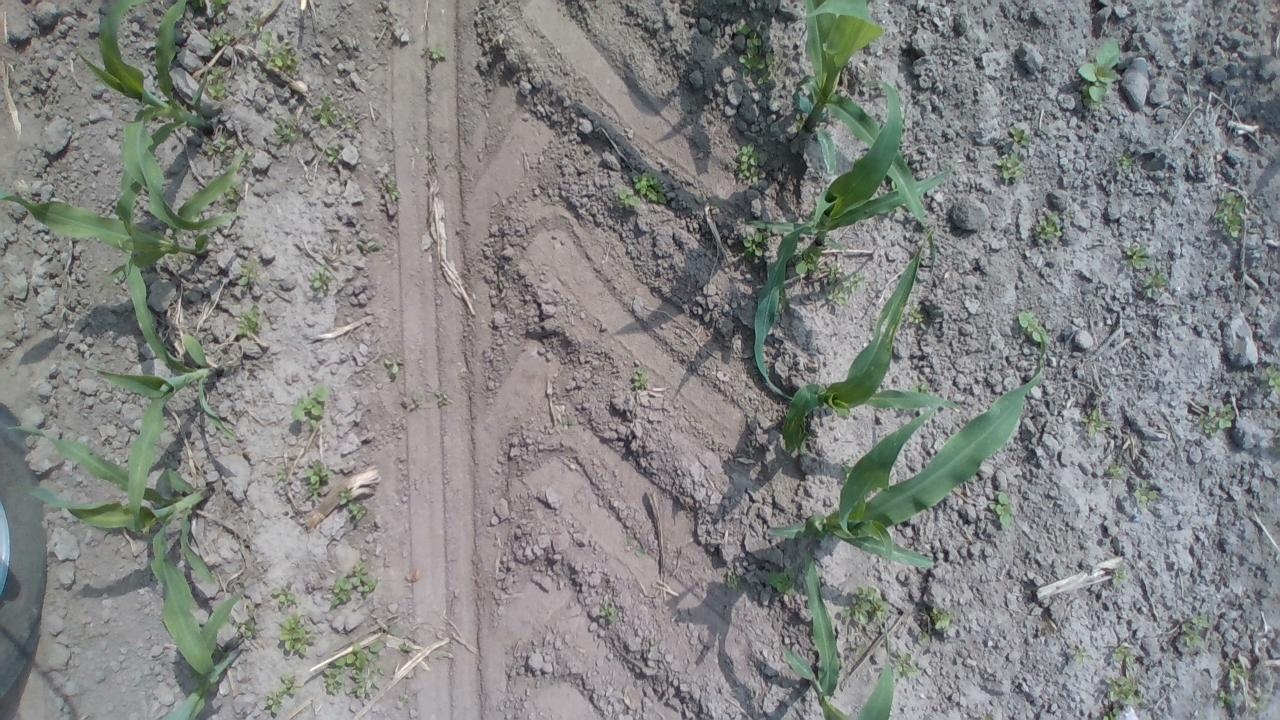Maize: (768, 365, 1053, 700), (750, 76, 966, 398), (4, 419, 222, 680), (770, 226, 966, 471), (5, 153, 210, 371), (80, 248, 240, 527), (74, 0, 240, 237), (781, 0, 934, 238), (156, 585, 250, 720), (774, 639, 904, 720)
Weeds: (1074, 40, 1124, 106), (328, 562, 380, 610), (346, 636, 386, 697), (735, 24, 774, 84), (292, 381, 336, 434), (311, 94, 368, 133), (840, 585, 894, 626), (255, 33, 302, 78), (1218, 660, 1261, 709), (1102, 670, 1142, 720), (278, 613, 320, 658), (1213, 190, 1246, 244), (826, 261, 864, 304), (1016, 312, 1056, 352), (260, 670, 300, 710), (1194, 402, 1237, 436), (734, 142, 770, 181), (302, 456, 332, 502), (1176, 611, 1210, 650), (633, 169, 668, 205), (1080, 405, 1114, 440), (924, 602, 956, 639), (1124, 242, 1162, 273), (768, 564, 801, 599), (884, 649, 921, 678), (1032, 210, 1065, 242), (322, 652, 346, 696), (272, 115, 308, 144), (304, 266, 336, 298), (203, 65, 231, 100), (1005, 119, 1036, 150), (414, 386, 452, 411), (992, 492, 1015, 532), (1139, 270, 1170, 299), (268, 582, 300, 610), (794, 246, 821, 279), (994, 153, 1024, 182), (236, 258, 264, 289), (206, 25, 238, 52), (740, 230, 769, 259), (339, 489, 368, 518), (378, 171, 402, 206), (1111, 640, 1139, 670), (1130, 478, 1158, 507), (234, 307, 260, 338), (598, 600, 625, 628), (420, 44, 449, 70), (240, 12, 268, 38), (624, 531, 648, 561), (1064, 638, 1087, 667), (202, 134, 232, 156), (908, 304, 930, 332), (616, 187, 640, 212), (631, 364, 651, 393), (382, 354, 408, 376), (325, 140, 344, 170), (1266, 362, 1280, 400), (1106, 456, 1127, 481), (1110, 565, 1129, 586), (724, 568, 740, 592), (1118, 153, 1136, 174), (224, 178, 240, 200), (562, 414, 578, 427)
